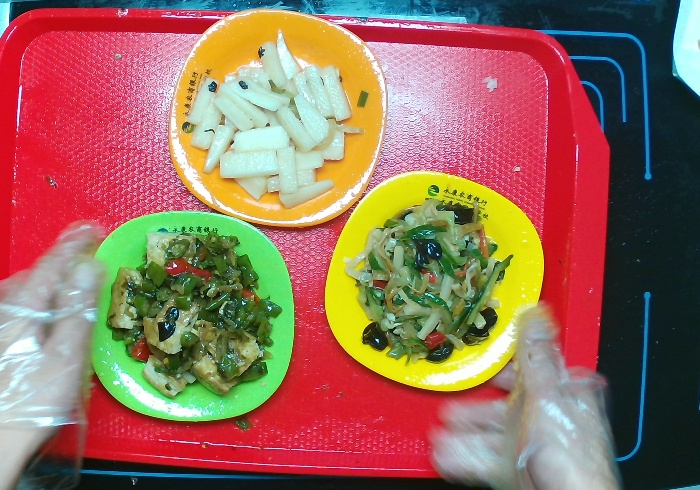YKMZ-Huang_Se_Fang_Die: (325, 170, 551, 398)
YKMZ-Ju_Se_Fang_Die: (171, 7, 389, 228)
YKMZ-Lv_Se_Fang_Die: (93, 209, 297, 425)
